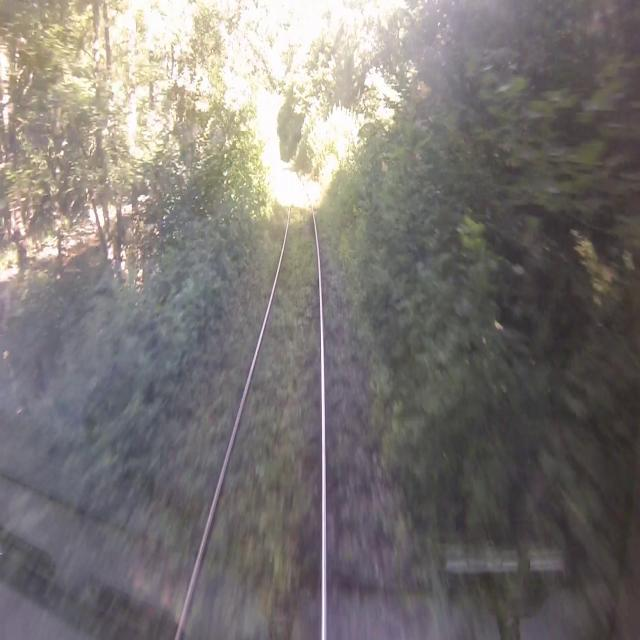Plant: (112, 201, 289, 639), (182, 205, 321, 639), (314, 190, 404, 601)
